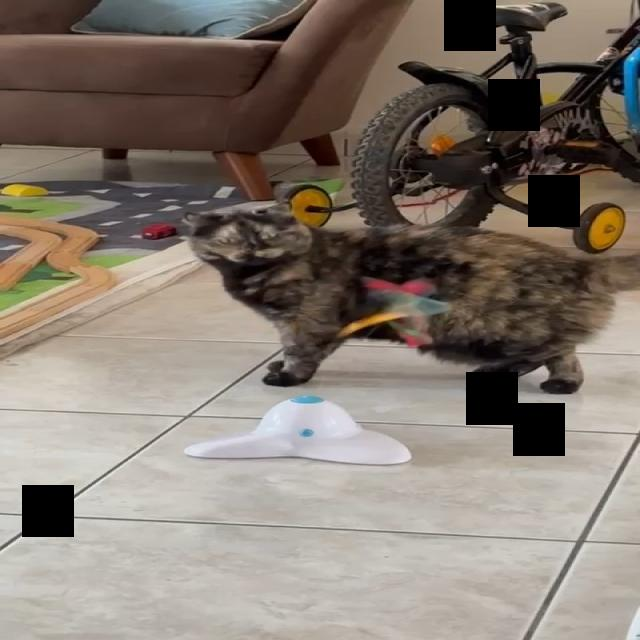authorized: (178, 203, 638, 394)
